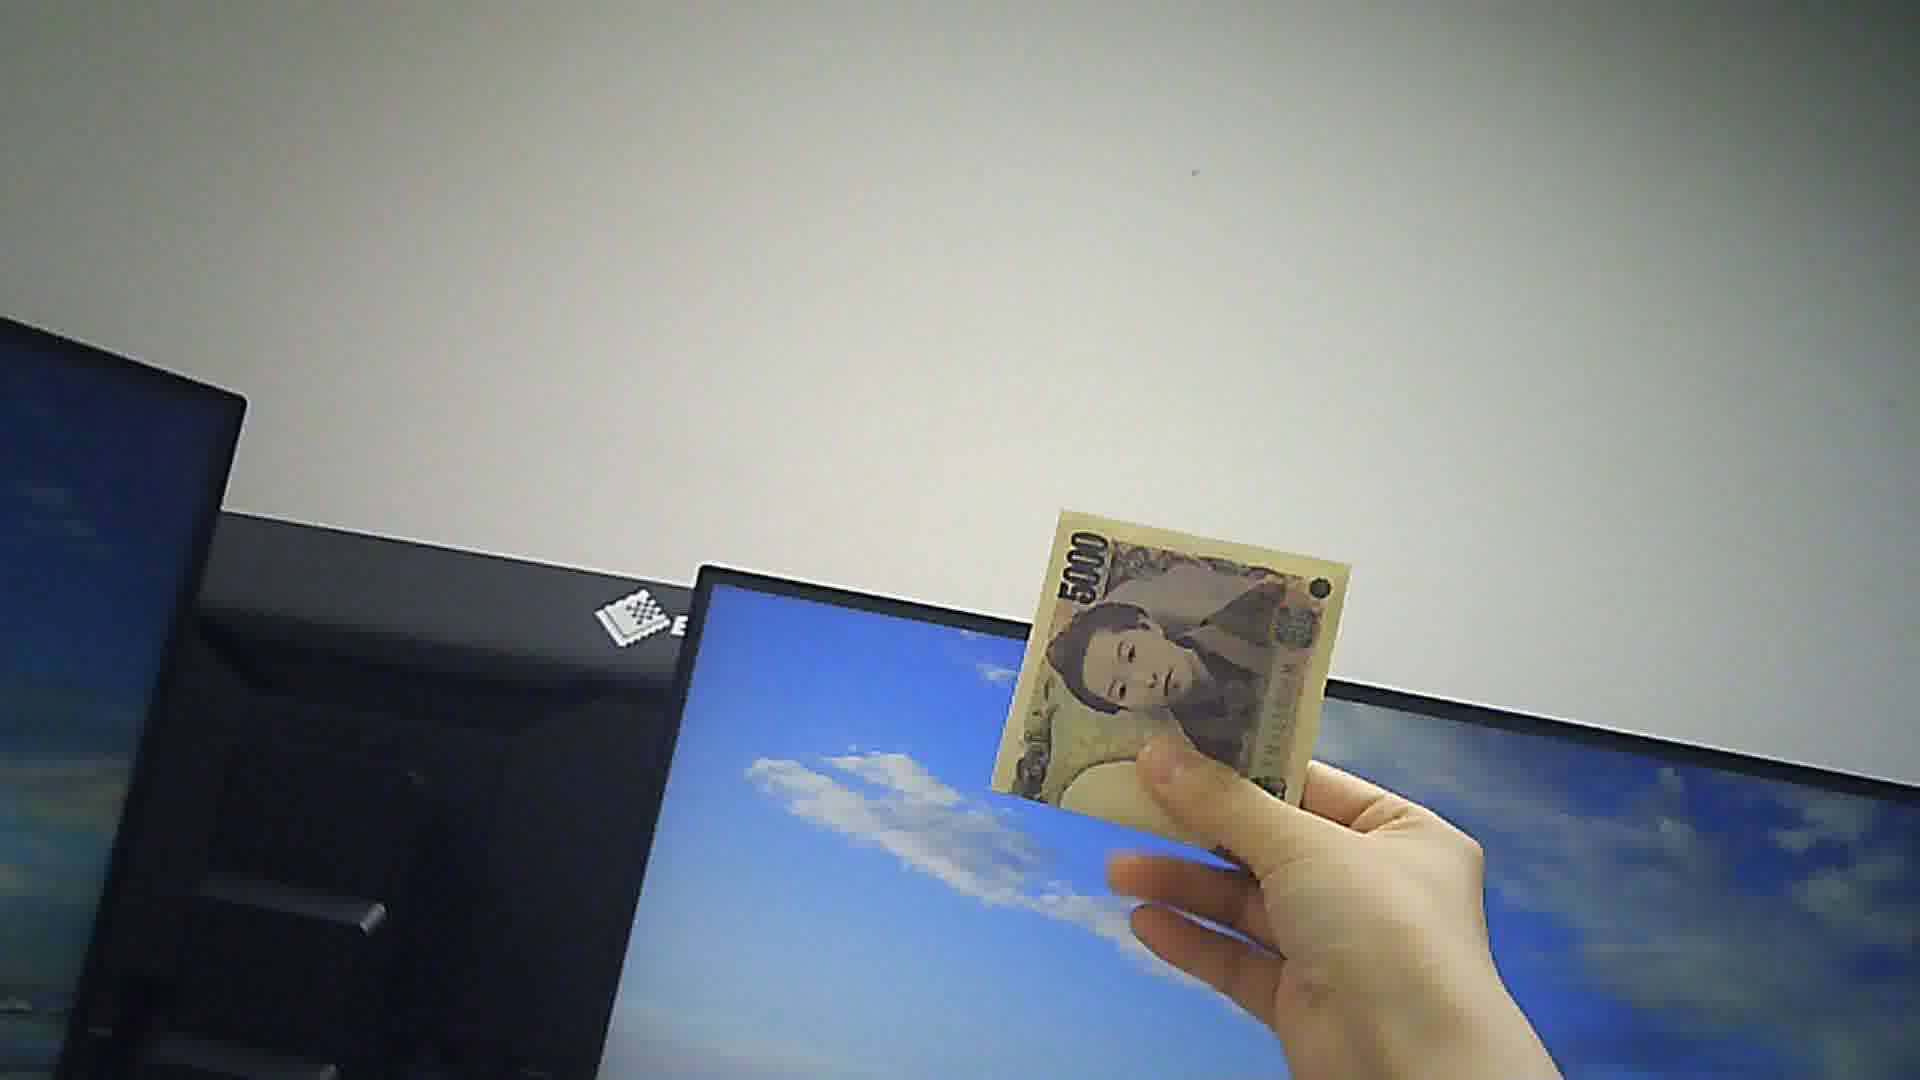5,000 Yen: (997, 501, 1373, 862)
